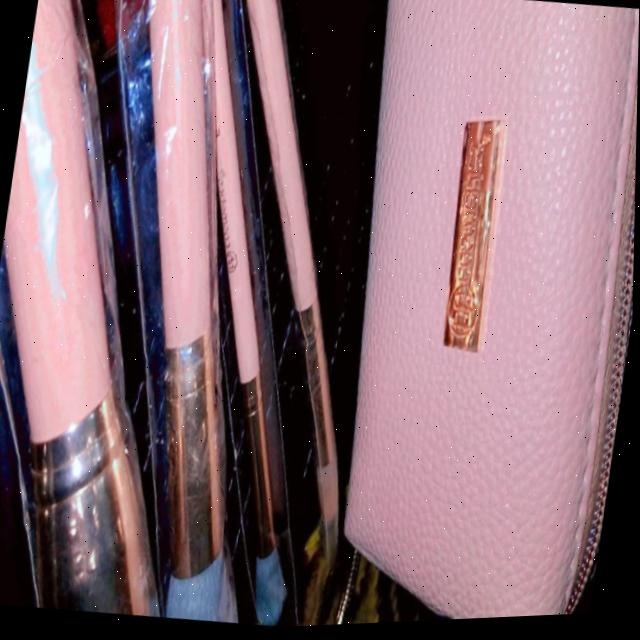brush: (0, 0, 402, 640)
